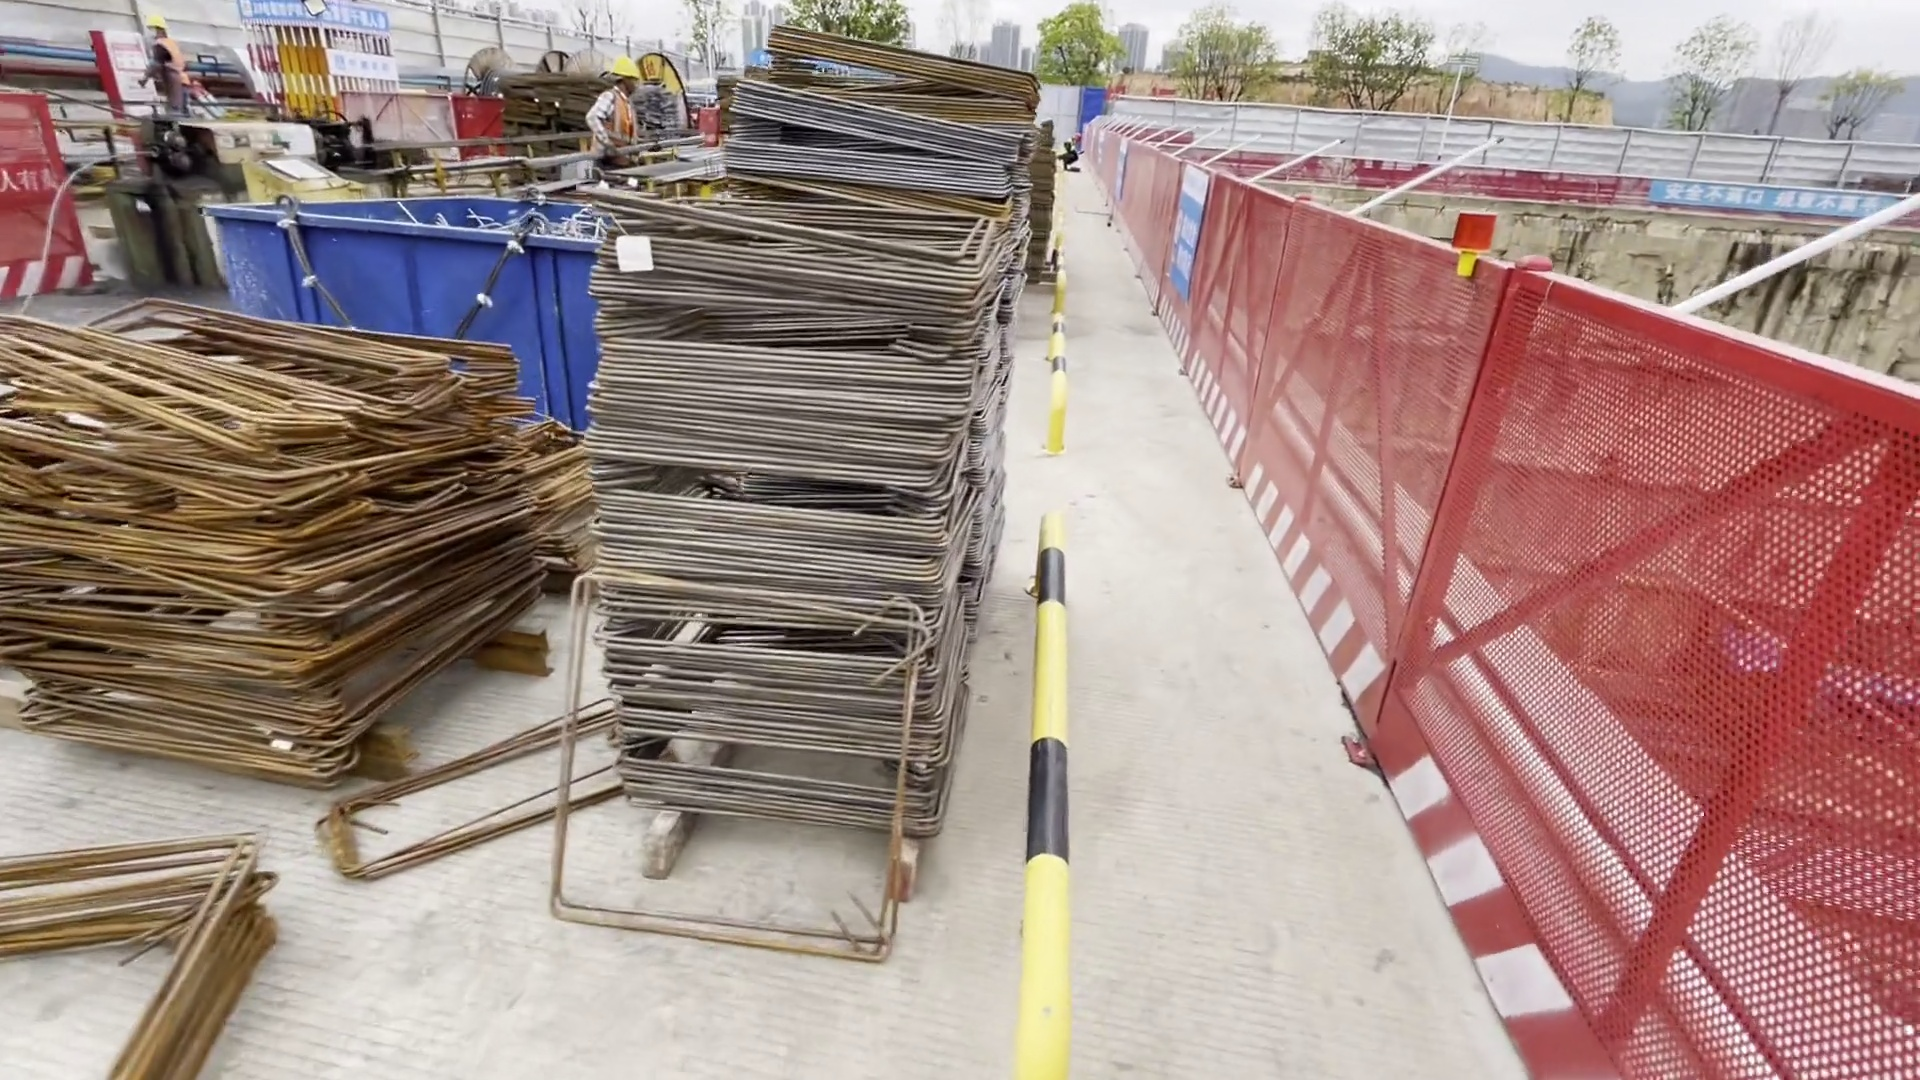helmet: (608, 59, 642, 79), (146, 14, 168, 31)
person: (586, 61, 646, 181), (136, 13, 187, 125), (1055, 134, 1083, 177)
vest: (600, 90, 636, 154), (155, 39, 193, 90)
